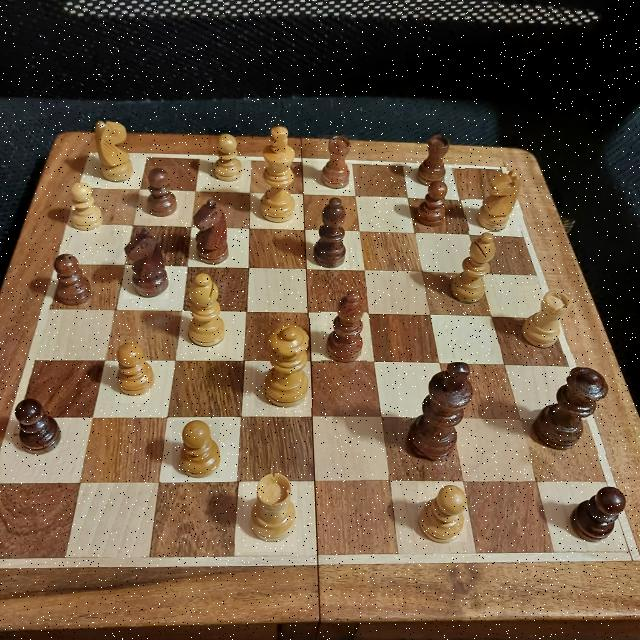black-camel: (321, 288, 366, 368), (311, 192, 349, 268)
black-elephant: (318, 135, 358, 190), (414, 132, 454, 181)
black-horse: (123, 226, 169, 299), (192, 197, 227, 263)
black-king: (398, 359, 477, 465)
black-pawn: (568, 483, 628, 541), (12, 390, 64, 454), (48, 251, 90, 304), (143, 166, 178, 218), (414, 181, 452, 225)
black-queen: (520, 354, 614, 454)
white-camel: (442, 230, 501, 306), (182, 267, 226, 352)
white-elephant: (243, 468, 297, 552), (518, 286, 576, 351)
white-horse: (464, 168, 522, 232), (92, 119, 130, 182)
white-king: (254, 120, 298, 230)
white-pawn: (418, 482, 467, 542), (172, 420, 220, 478), (115, 336, 150, 403), (208, 128, 241, 186), (64, 184, 101, 234)
white-queen: (255, 318, 312, 408)
